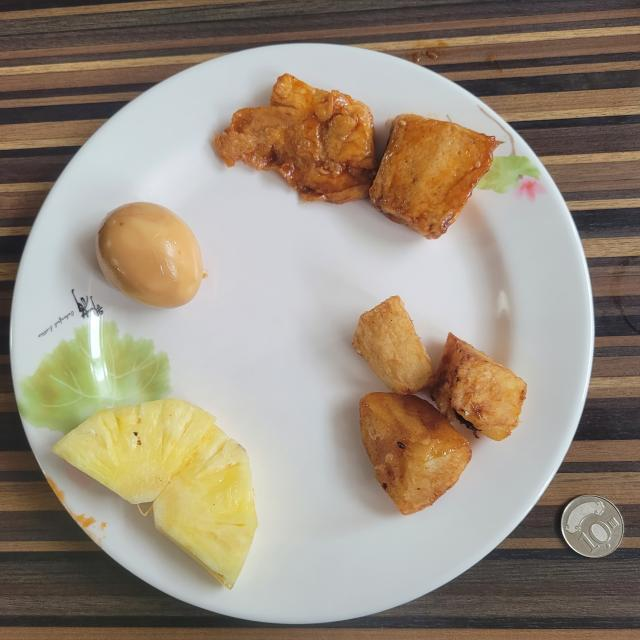coin: (561, 495, 624, 558)
creamy tofu: (214, 74, 499, 239)
fried potato: (352, 298, 526, 514)
pineapple: (52, 399, 258, 588)
soy egg: (96, 202, 202, 309)
